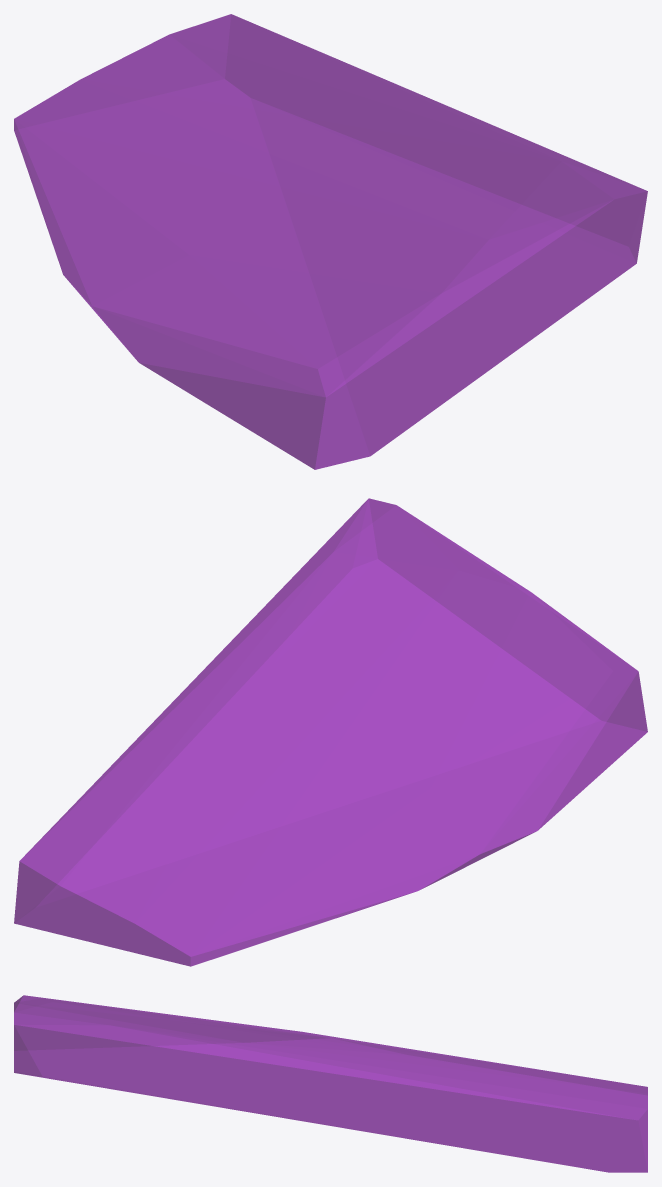
3 views of the same model, one above another, from view 1: azimuth 30°, elevation 25°; view 2: azimuth 150°, elevation 25°; view 3: azimuth 270°, elevation 25° (orthographic). The views are drawn at different scales.
Visible parts, largest first — view 1: Shape_IndexedFaceSet.044_Shape_IndexedFaceSet.642; view 2: Shape_IndexedFaceSet.044_Shape_IndexedFaceSet.642; view 3: Shape_IndexedFaceSet.044_Shape_IndexedFaceSet.642.
Part boxes in pixels (x1,y1,x2,y2): Shape_IndexedFaceSet.044_Shape_IndexedFaceSet.642: (14, 14, 647, 469); Shape_IndexedFaceSet.044_Shape_IndexedFaceSet.642: (14, 498, 647, 966); Shape_IndexedFaceSet.044_Shape_IndexedFaceSet.642: (14, 995, 647, 1172).
Bounding box in the file's own units: 0.0596 × 0.0317 × 0.123.
